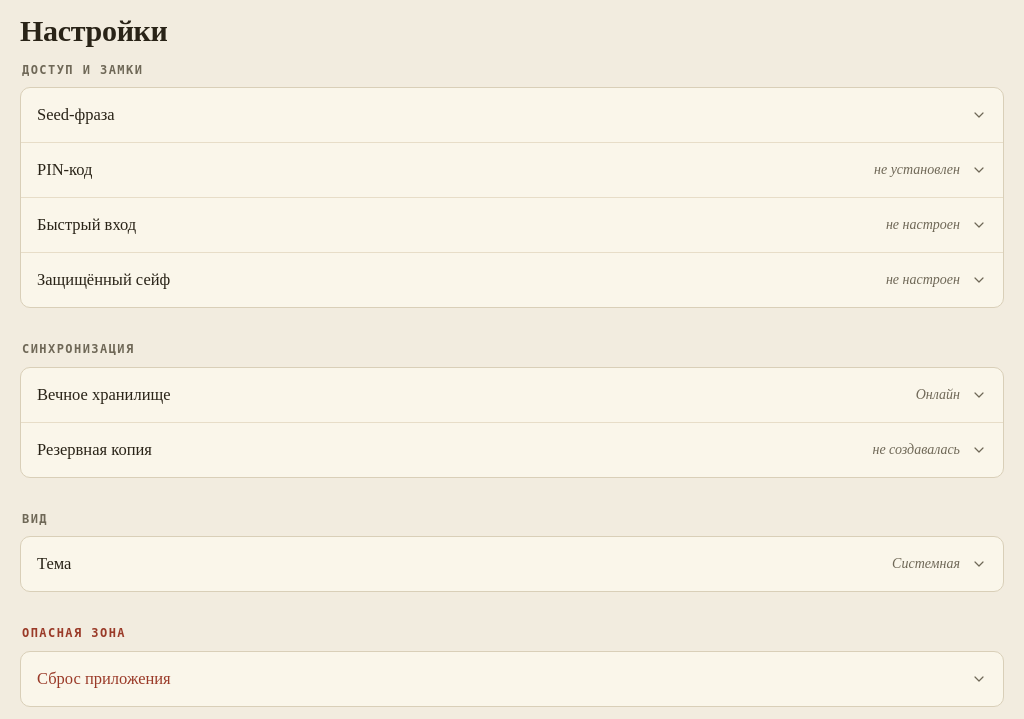
Test: SettingsSection — safebox seed gate (§2) › без сейфа: seed-фраза показывается как раньше
The width and height of the screenshot is (1024, 719).
Click the button "Seed-фраза" at (76, 115), box [21,88,1003,142]
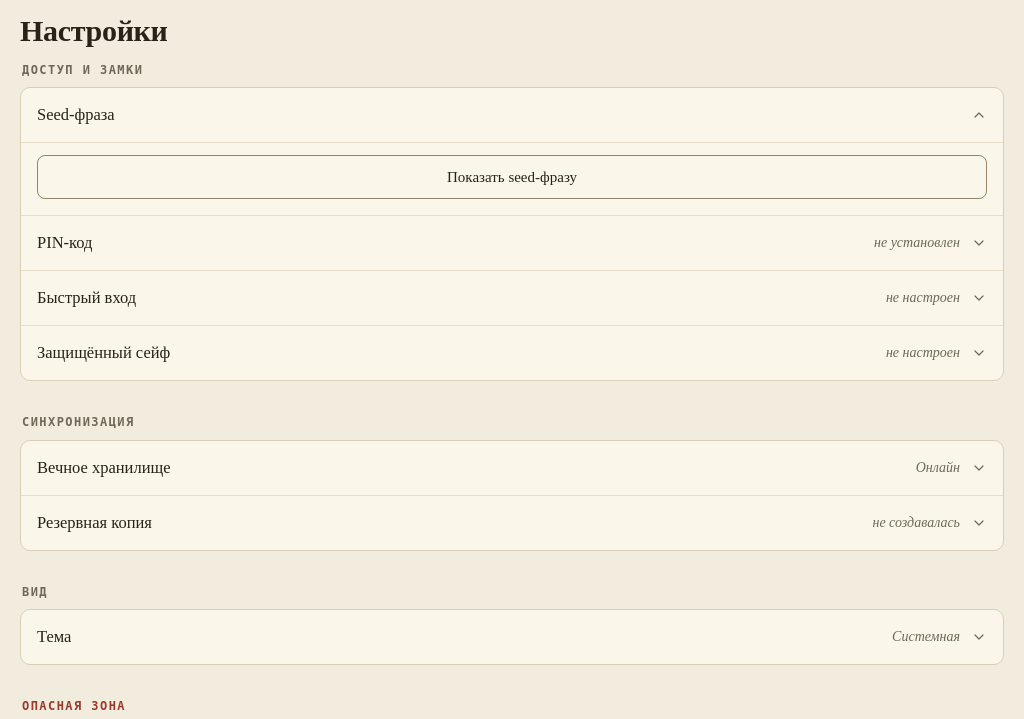
Click the button "Показать seed-фразу" at (512, 177), box [37,155,987,199]
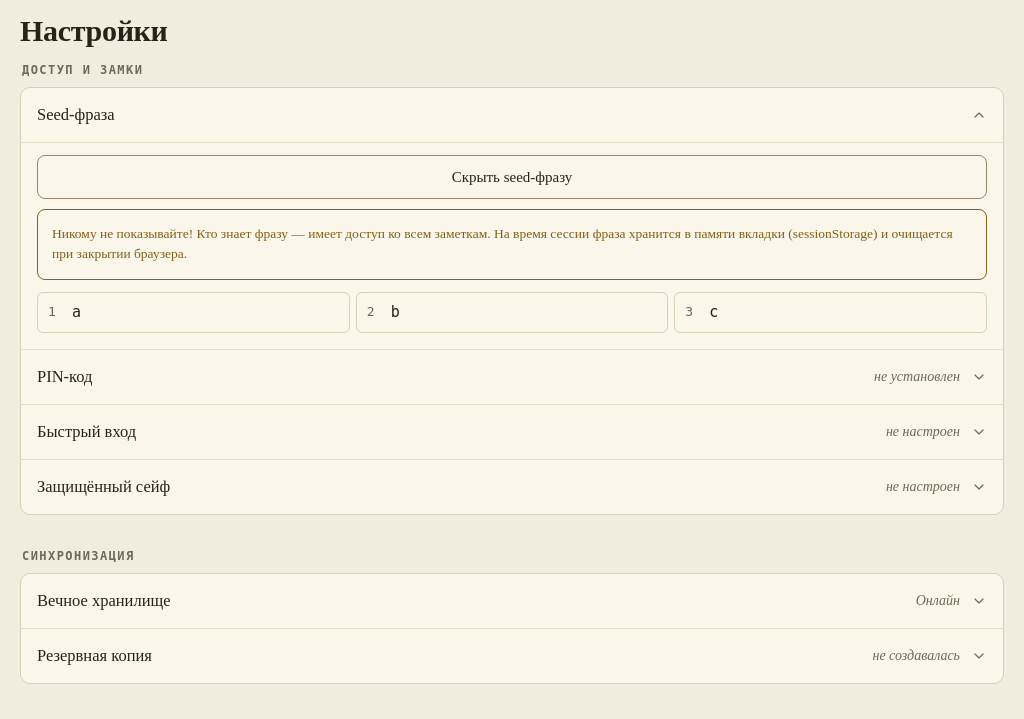
Expected: the text "a" is shown, [72,301,81,324]
